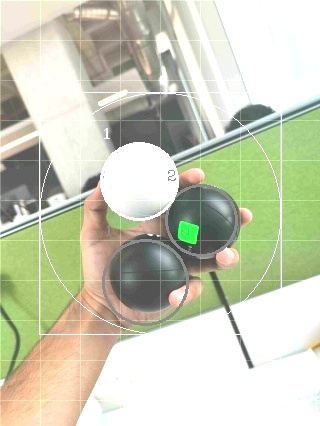Pelota blanca: (98, 140, 179, 222)
Pelota negra: (100, 233, 187, 328), (164, 182, 241, 259)
Pelota roja: (215, 246, 241, 270), (177, 166, 206, 187), (239, 206, 254, 227)
